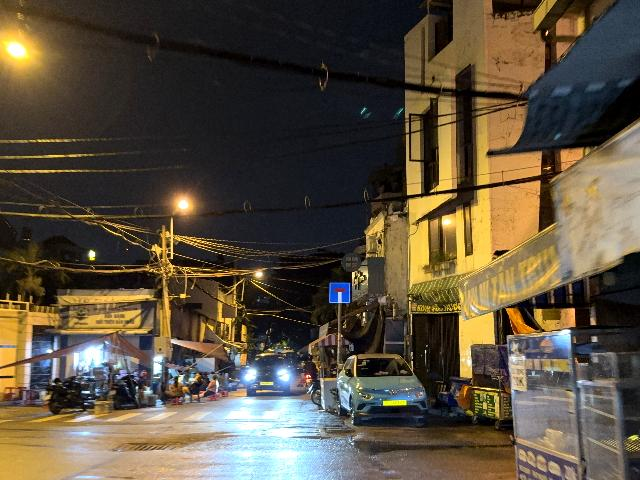duong-cut: (329, 282, 350, 303)
